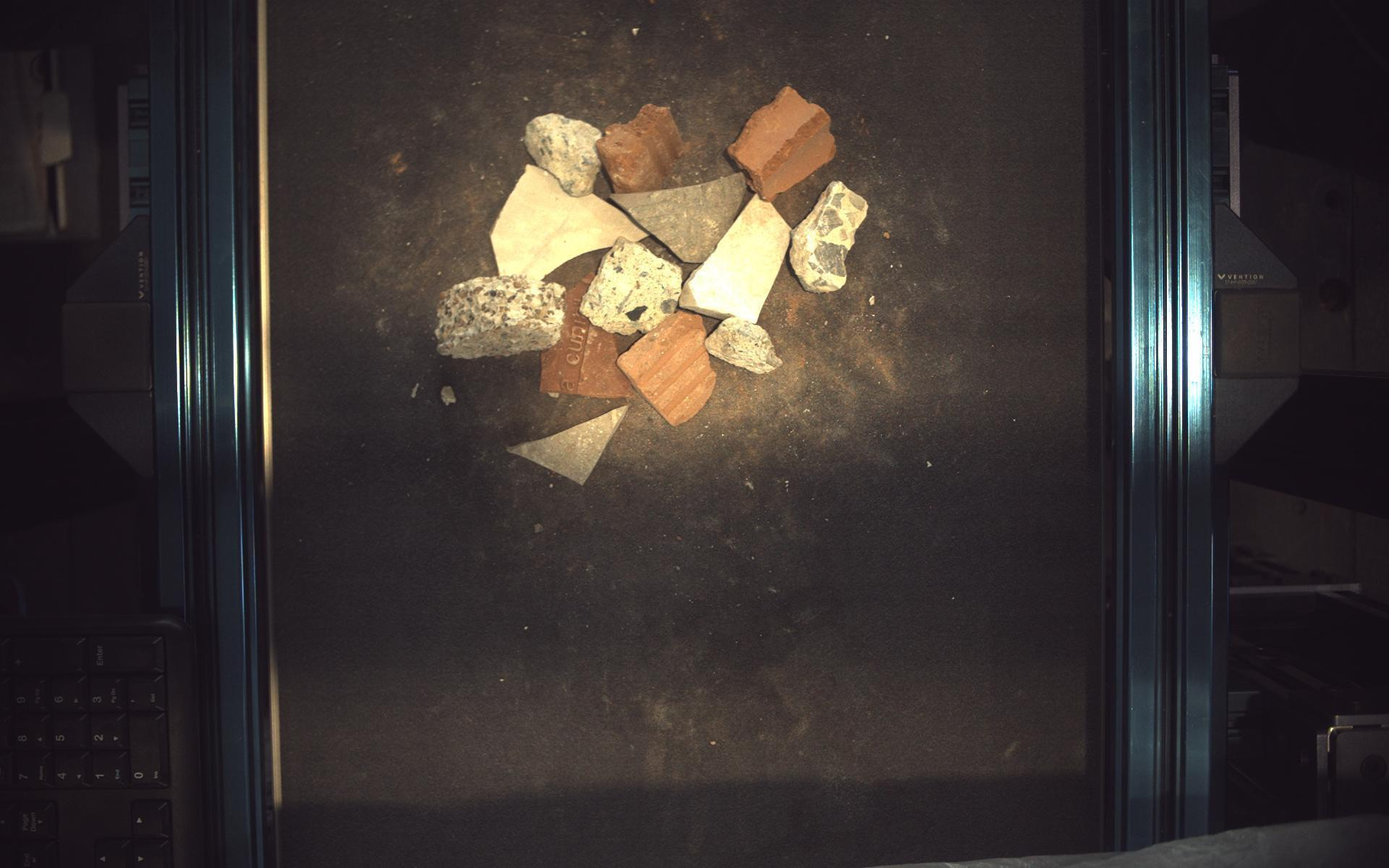brick: (728, 84, 838, 200), (540, 273, 636, 399), (618, 310, 718, 425), (596, 103, 685, 192)
concrete: (436, 275, 566, 359), (580, 236, 683, 335), (524, 112, 603, 197), (706, 317, 783, 373)
tile: (490, 163, 647, 278), (680, 194, 792, 322), (610, 171, 749, 263), (507, 405, 628, 485), (791, 180, 870, 292)
